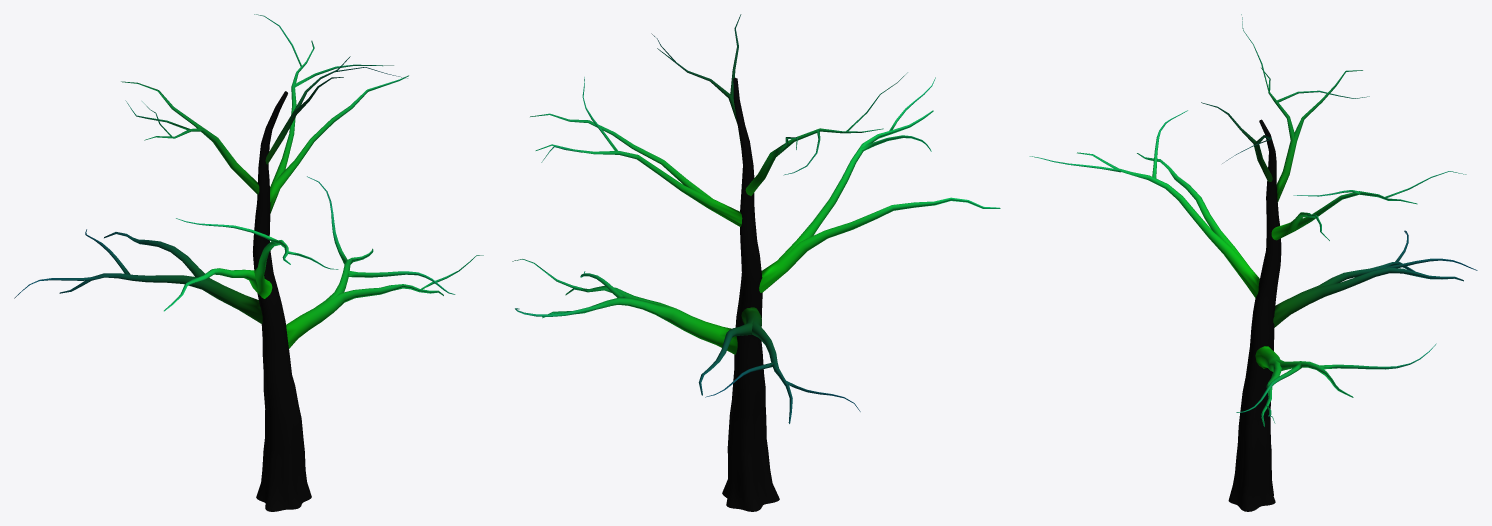
File: Tree.fbx
The picture shows the model from 3 angles, left to right: view 1: azimuth 30°, elevation 25°; view 2: azimuth 150°, elevation 25°; view 3: azimuth 270°, elevation 25°; orthographic projection. The views are drawn at different scales.
Parts seen in each view (by area): view 1: Tree_0; view 2: Tree_0; view 3: Tree_0.
Part boxes in pixels (x1,y1,x2,y2): Tree_0: [14, 14, 483, 511]; Tree_0: [512, 14, 1000, 511]; Tree_0: [1029, 14, 1477, 511].
Size of the model in its own units: 287 by 301 by 293.
